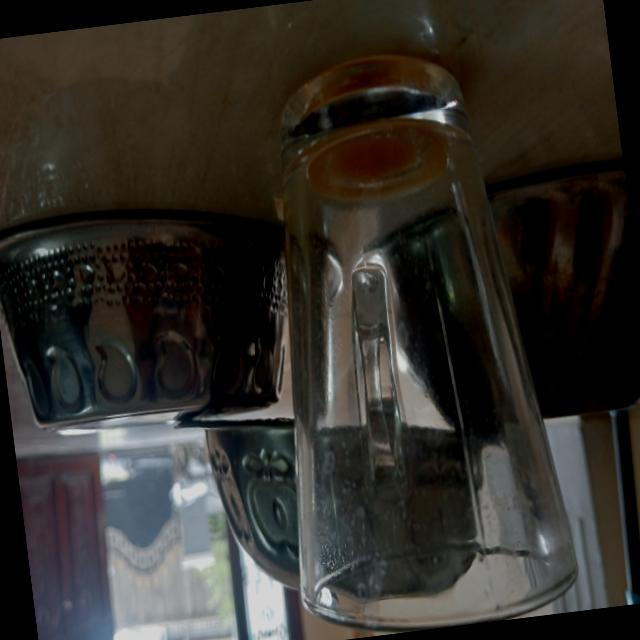glass-VX4N: (234, 32, 595, 640)
